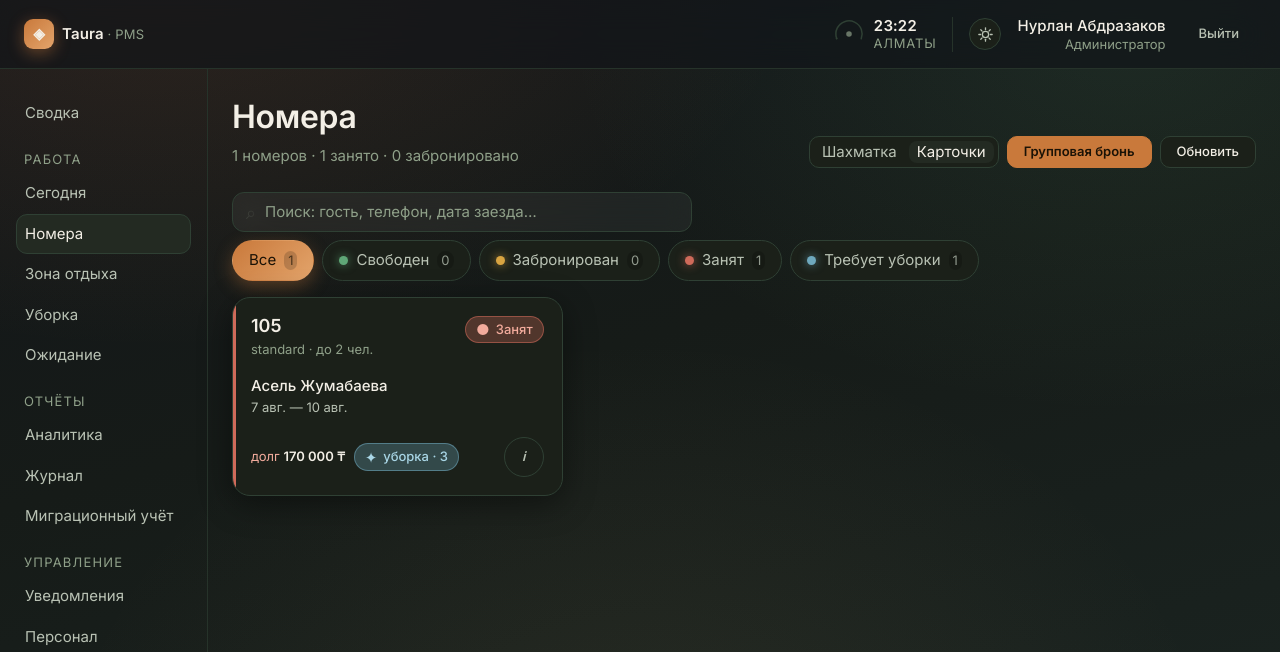
Test: §1 clicking a card opens the detail view › opens the room detail view when a room card is clicked
The width and height of the screenshot is (1280, 652).
Click the button "105": (266,325) [251,316,544,417]
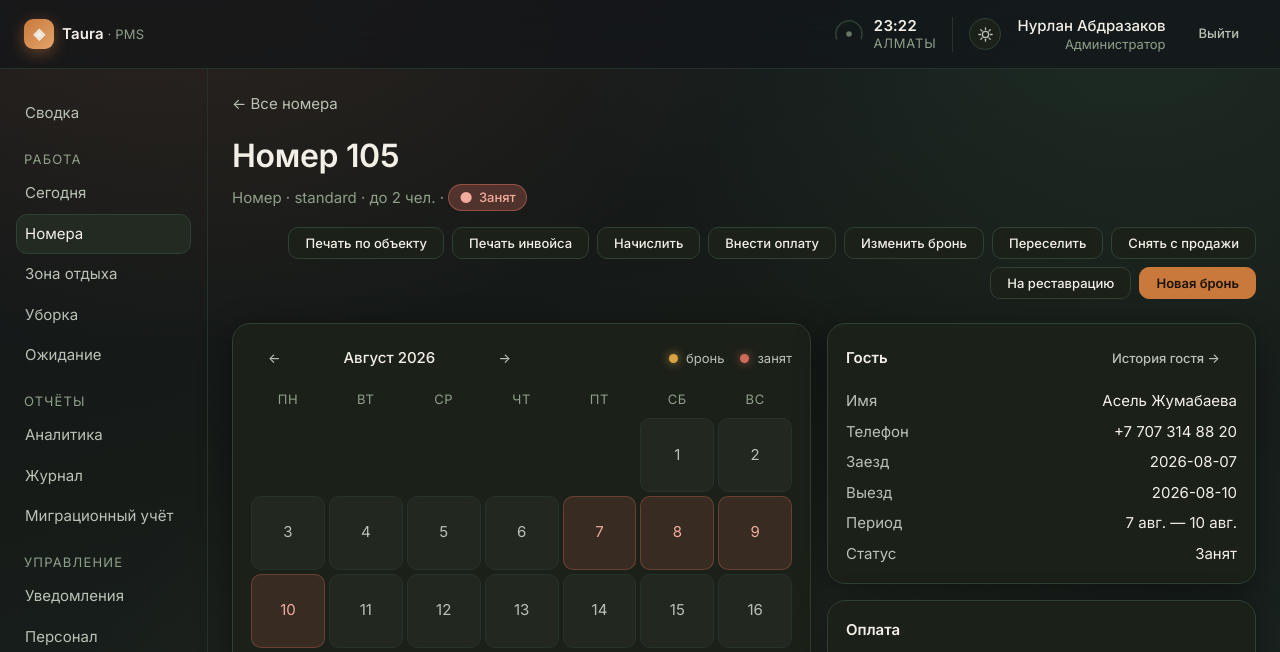
Now the heading "Номер 105" is shown, box [232,136,399,175]
